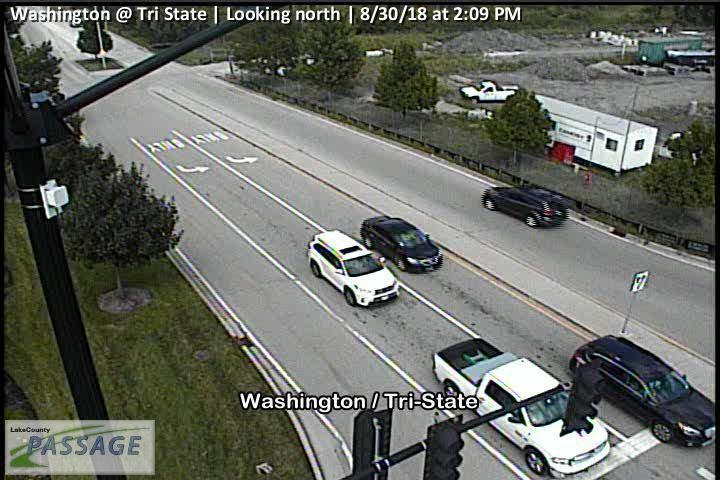SUV: (569, 333, 714, 448), (308, 229, 401, 308), (482, 184, 567, 229)
Sedan: (361, 216, 443, 273)
Truck: (432, 337, 611, 478), (460, 80, 520, 104)
